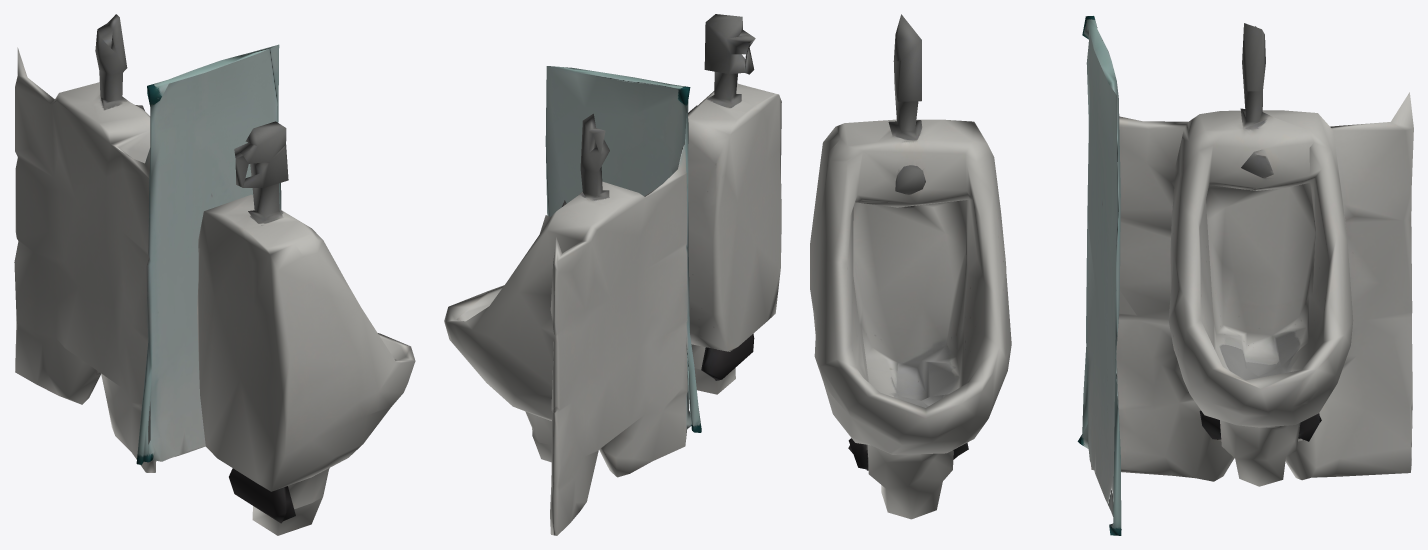
Rendered from urinal.glb.
3 renders of one model, left to right at view 1: azimuth 30°, elevation 25°; view 2: azimuth 150°, elevation 25°; view 3: azimuth 270°, elevation 25°, orthographic. The views are drawn at different scales.
Visible parts, largest first — view 1: tripo_node_4ea6cd8d-0569-4f69-b96c-c89546639471; view 2: tripo_node_4ea6cd8d-0569-4f69-b96c-c89546639471; view 3: tripo_node_4ea6cd8d-0569-4f69-b96c-c89546639471.
Boxes of the visible parts, x1,y1,x2,y2 form: tripo_node_4ea6cd8d-0569-4f69-b96c-c89546639471: [14, 14, 415, 535]; tripo_node_4ea6cd8d-0569-4f69-b96c-c89546639471: [444, 14, 781, 535]; tripo_node_4ea6cd8d-0569-4f69-b96c-c89546639471: [810, 14, 1413, 535].
Bounding box in the file's own units: 0.4526 × 0.8577 × 1.
Materials: 1 (1 with a texture image).
